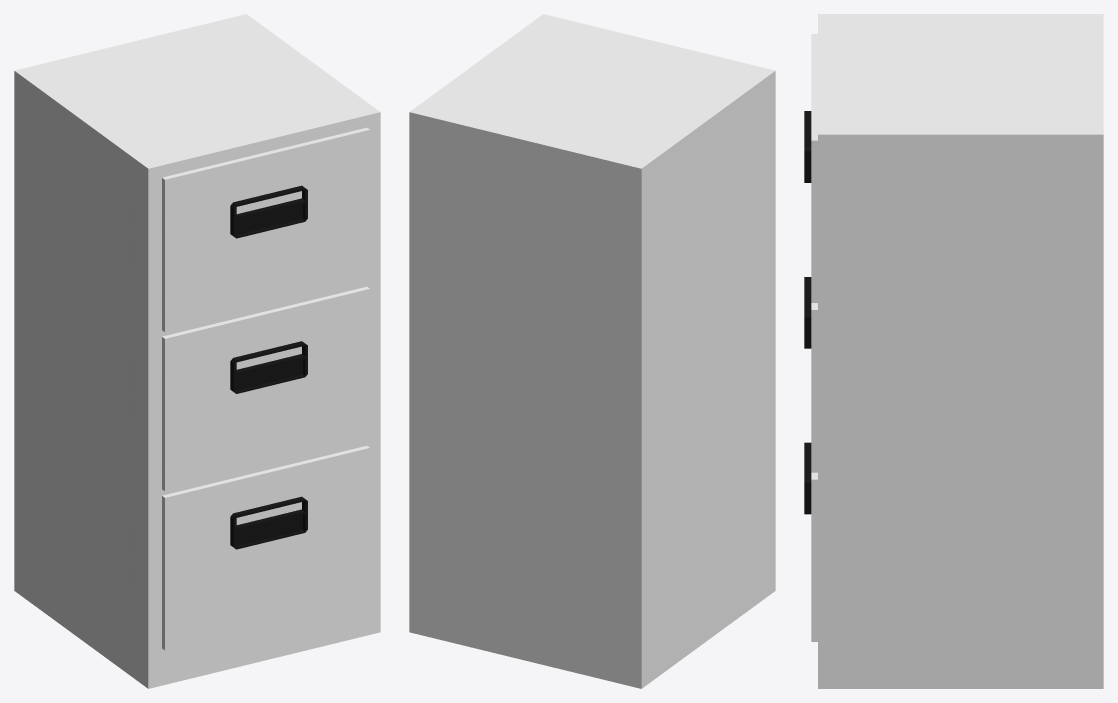
File: cabinet.fbx
3 renders of one model, left to right at view 1: azimuth 30°, elevation 25°; view 2: azimuth 150°, elevation 25°; view 3: azimuth 270°, elevation 25°, orthographic. The views are drawn at different scales.
Parts seen in each view (by area): view 1: cabinet; view 2: cabinet; view 3: cabinet.
Part boxes in pixels (left/top/right/bottom): cabinet: left=14, top=14, right=380, bottom=688; cabinet: left=409, top=14, right=775, bottom=688; cabinet: left=804, top=14, right=1103, bottom=688.
Bounding box in the file's own units: 0.9217 × 1.97 × 0.9653.
Materials: 1 (1 with a texture image).
